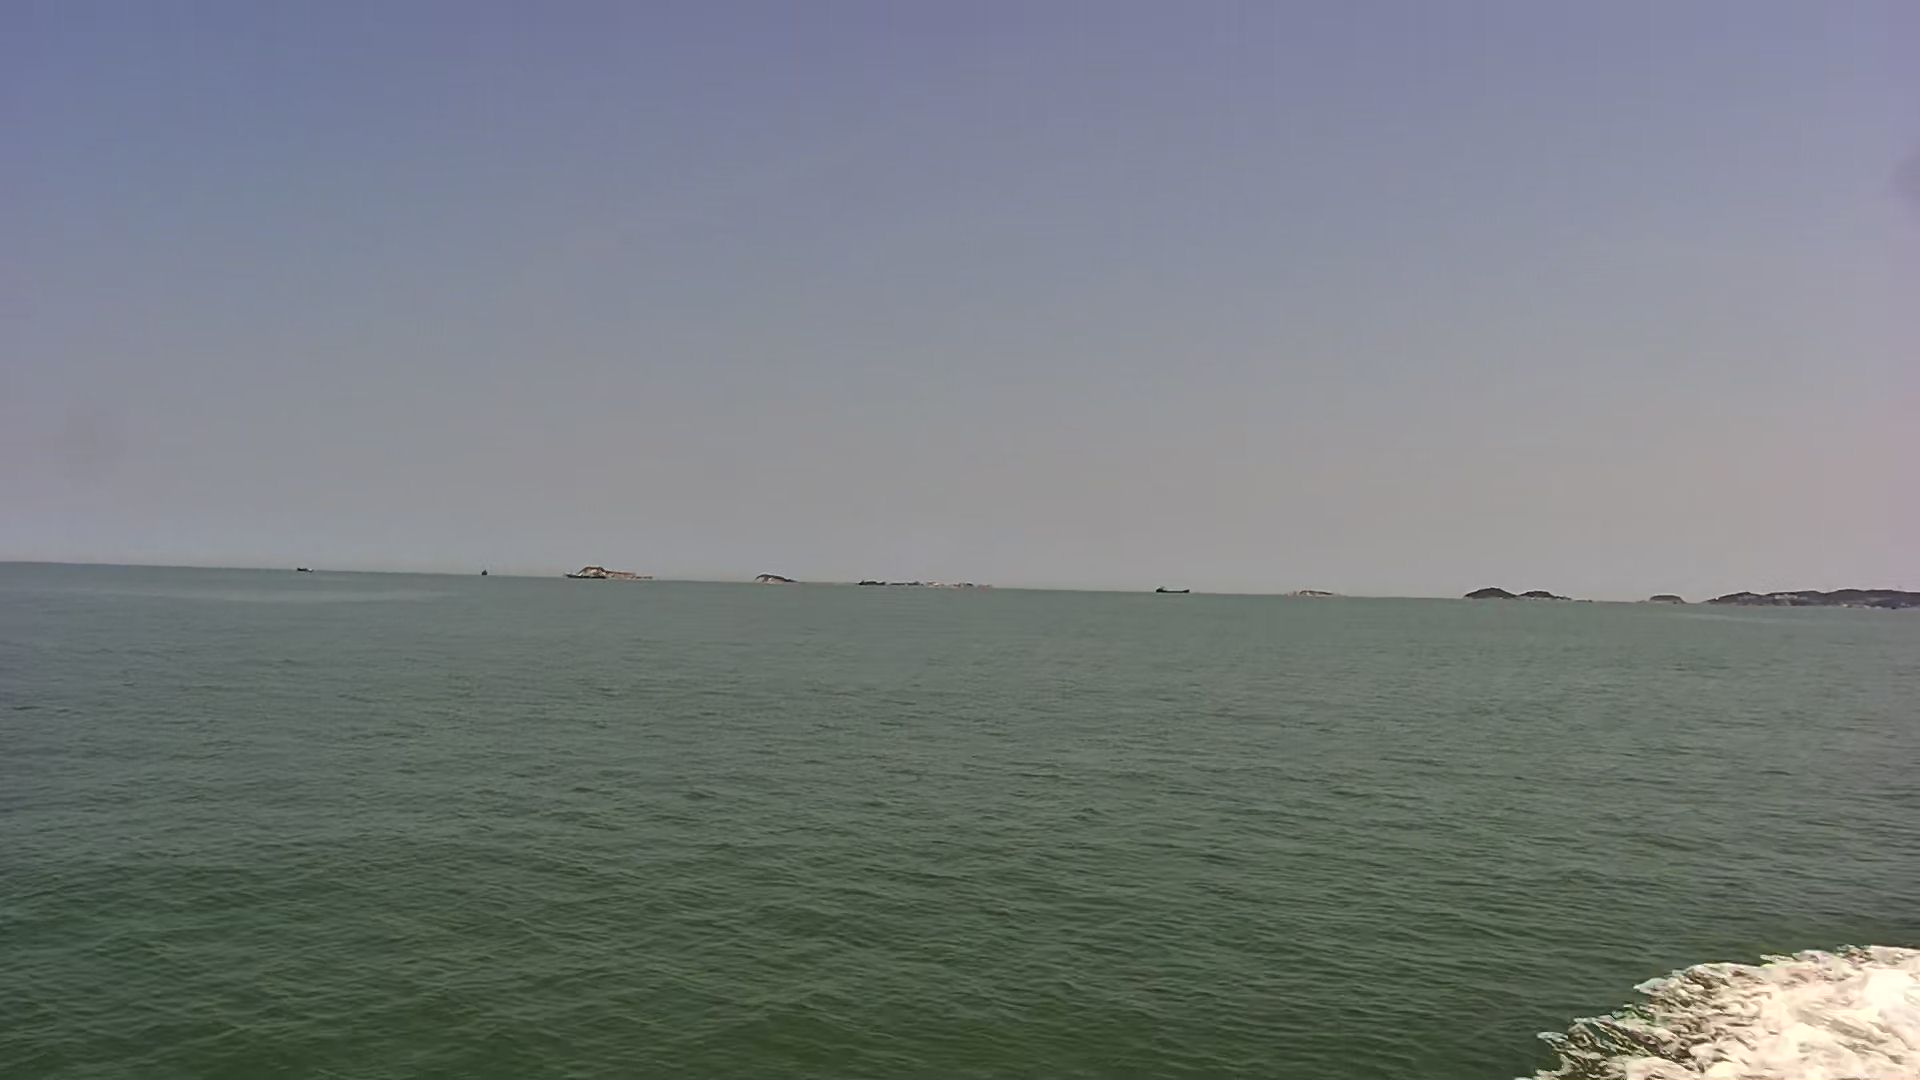rock: (1644, 587, 1920, 615), (1458, 583, 1584, 605), (566, 568, 662, 583)
